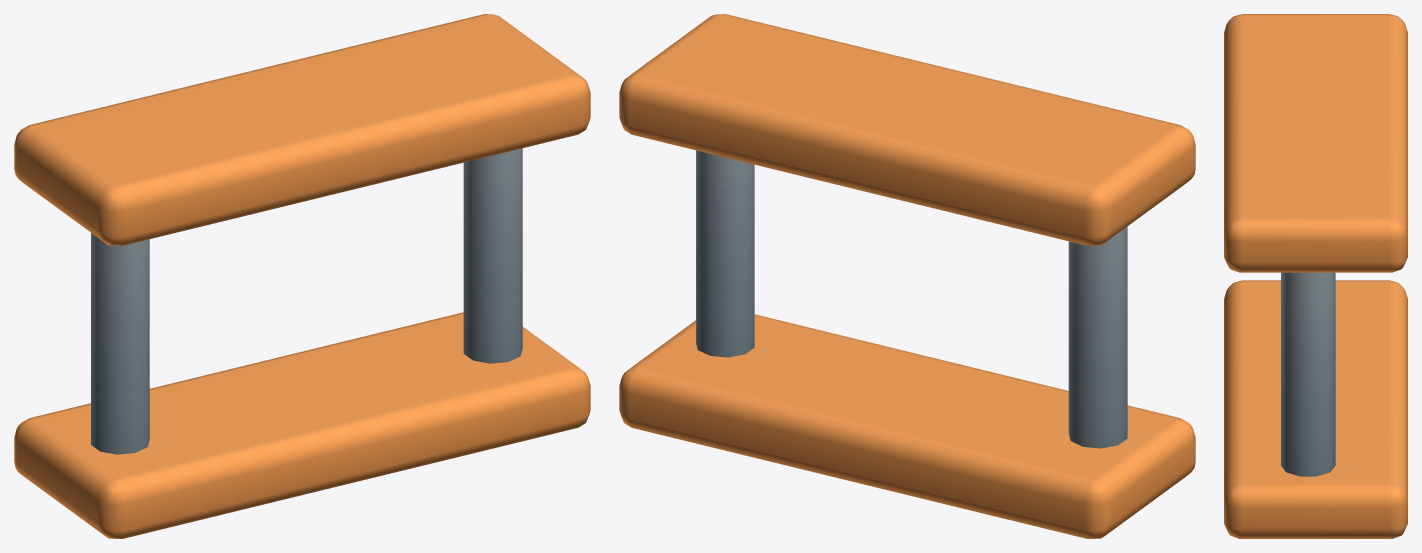
File: Shelf_01.glb
The picture shows the model from 3 angles, left to right: view 1: azimuth 30°, elevation 25°; view 2: azimuth 150°, elevation 25°; view 3: azimuth 270°, elevation 25°; orthographic projection. The views are drawn at different scales.
Visible parts, largest first — view 1: Shelf_01; view 2: Shelf_01; view 3: Shelf_01.
Part boxes in pixels (x1,y1,x2,y2): Shelf_01: [14, 14, 590, 538]; Shelf_01: [619, 14, 1195, 538]; Shelf_01: [1224, 14, 1407, 538].
Bounding box in the file's own units: 0.7 × 0.4804 × 0.25.
Materials: 1 (1 with a texture image).
